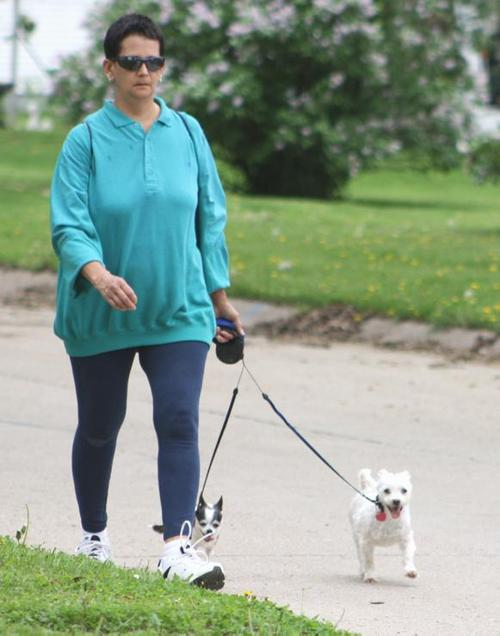person: (51, 13, 241, 590)
